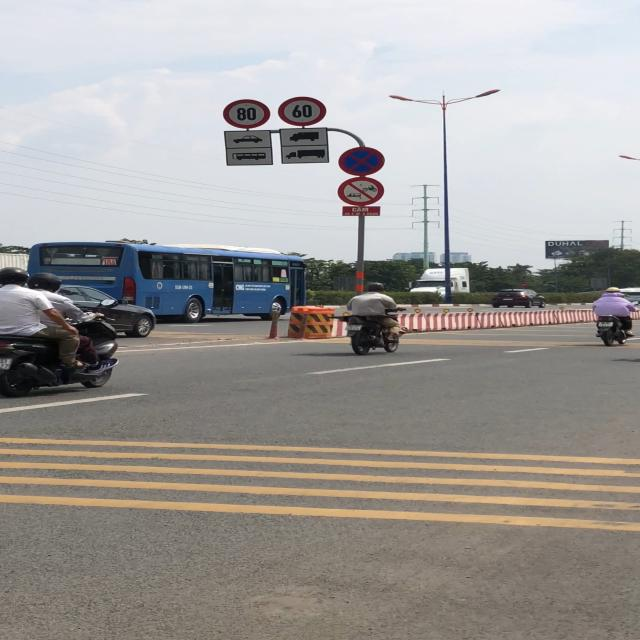Bien bao cam dung xe va do xe: (338, 144, 388, 176)
Bien bao toc do toi da cho phep: (223, 98, 270, 130), (278, 96, 328, 126)
